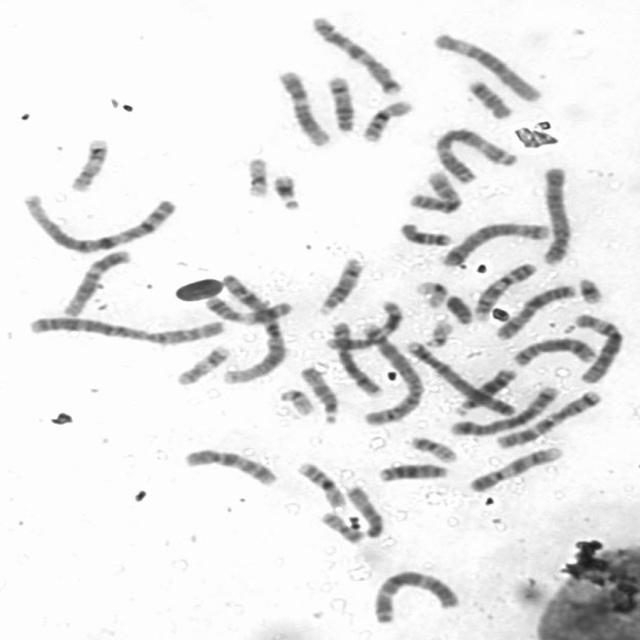A1: (15, 188, 182, 254), (213, 269, 290, 387)
A2: (352, 321, 427, 426), (22, 310, 227, 346)
A3: (430, 122, 522, 185), (368, 566, 463, 625)
B4: (399, 336, 518, 418), (536, 162, 573, 266)
B5: (444, 382, 561, 438), (437, 216, 552, 268)
C10: (180, 444, 281, 488), (404, 166, 466, 215)
C11: (320, 296, 406, 353), (200, 292, 295, 326)
C12: (58, 245, 136, 318), (272, 65, 334, 147)
C6: (429, 28, 546, 103), (568, 308, 628, 385)
C7: (306, 11, 406, 96), (492, 386, 604, 449)
C8: (326, 316, 386, 398), (508, 332, 601, 368)
C9: (464, 442, 566, 494), (470, 258, 540, 322)
D13: (451, 363, 519, 416), (374, 458, 452, 484)
D14: (313, 252, 368, 316), (322, 72, 356, 132)
D15: (296, 362, 343, 425), (340, 482, 386, 540)
E16: (355, 95, 416, 144), (292, 458, 348, 508)
E17: (172, 340, 234, 386), (64, 133, 111, 193)
E18: (461, 75, 515, 120), (396, 218, 455, 247)
F19: (240, 152, 272, 199), (409, 276, 450, 309)
F20: (315, 506, 367, 545), (405, 432, 460, 463)
G21: (267, 170, 304, 212), (573, 273, 606, 305)
G22: (274, 384, 318, 417), (419, 316, 455, 349)
X: (492, 280, 579, 340)
Y: (440, 290, 476, 325)
